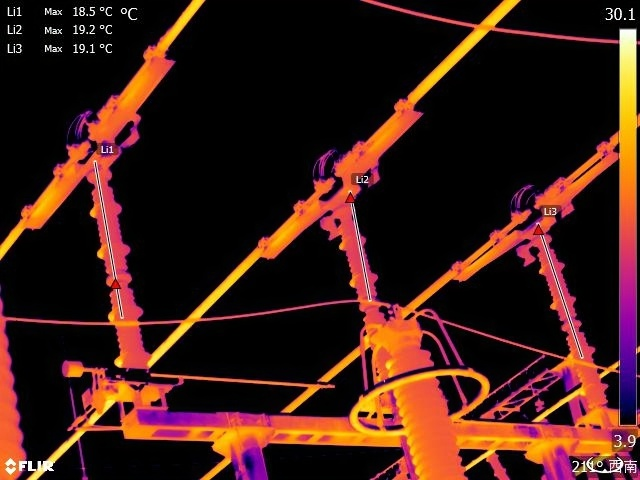lightning arrester: (351, 304, 493, 480)
post insulator: (87, 171, 148, 362), (541, 236, 606, 406), (332, 200, 389, 330)
